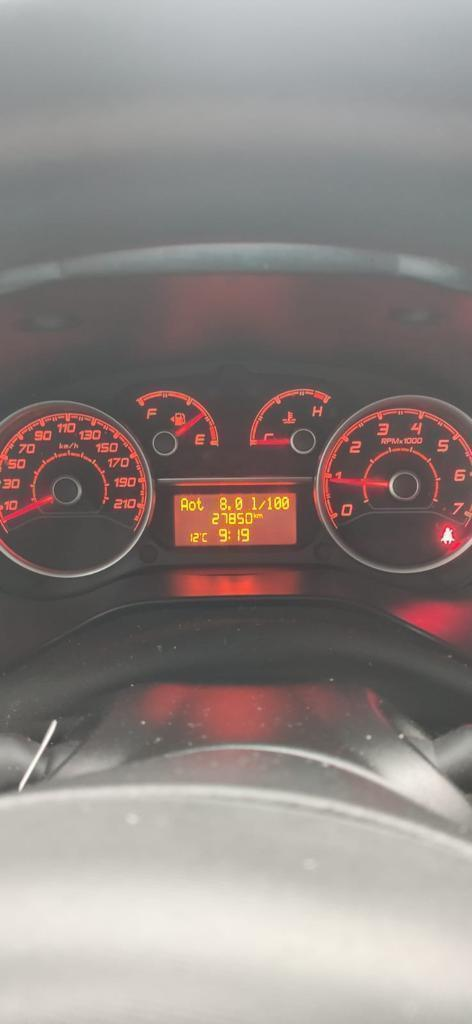,: (227, 504, 231, 510)
0: (281, 495, 289, 511), (274, 495, 281, 511), (235, 496, 242, 510), (245, 511, 252, 524)
1: (267, 495, 272, 511), (236, 528, 240, 542), (189, 531, 192, 543)
2: (211, 512, 219, 524), (193, 532, 199, 542)
5: (237, 512, 244, 524)
7: (220, 511, 227, 524)
8: (218, 496, 226, 510), (228, 512, 237, 524)
9: (240, 528, 249, 542), (218, 528, 227, 542)
X: (196, 496, 204, 512), (180, 497, 188, 510), (188, 499, 196, 511), (251, 495, 257, 511), (257, 499, 265, 510), (201, 532, 208, 542), (227, 529, 231, 540), (256, 513, 263, 518), (253, 511, 256, 518)
odometer: (172, 492, 299, 546)
